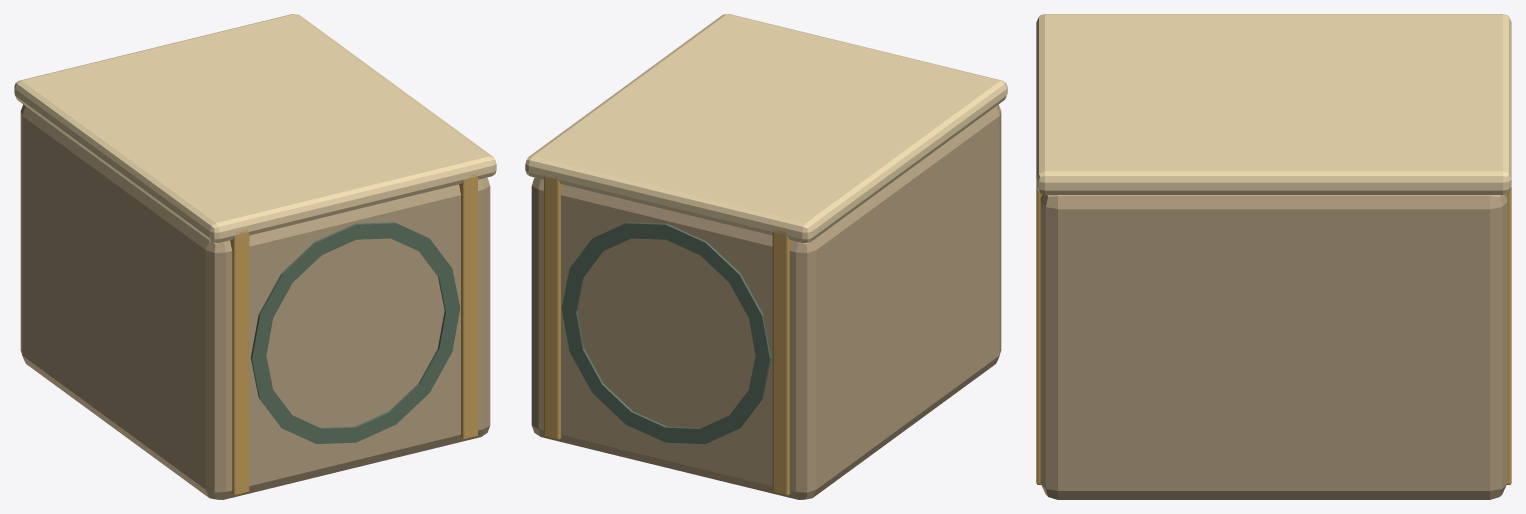
File: cover.glb
The picture shows the model from 3 angles, left to right: view 1: azimuth 30°, elevation 25°; view 2: azimuth 150°, elevation 25°; view 3: azimuth 270°, elevation 25°; orthographic projection. The views are drawn at different scales.
Parts seen in each view (by area): view 1: cover_solid; view 2: cover_solid; view 3: cover_solid.
Boxes of the visible parts, <box> form: cover_solid: <box>14,14,496,499</box>; cover_solid: <box>525,14,1007,499</box>; cover_solid: <box>1036,14,1511,499</box>.
Bounding box in the file's own units: 1.8 × 1.7 × 2.2.
